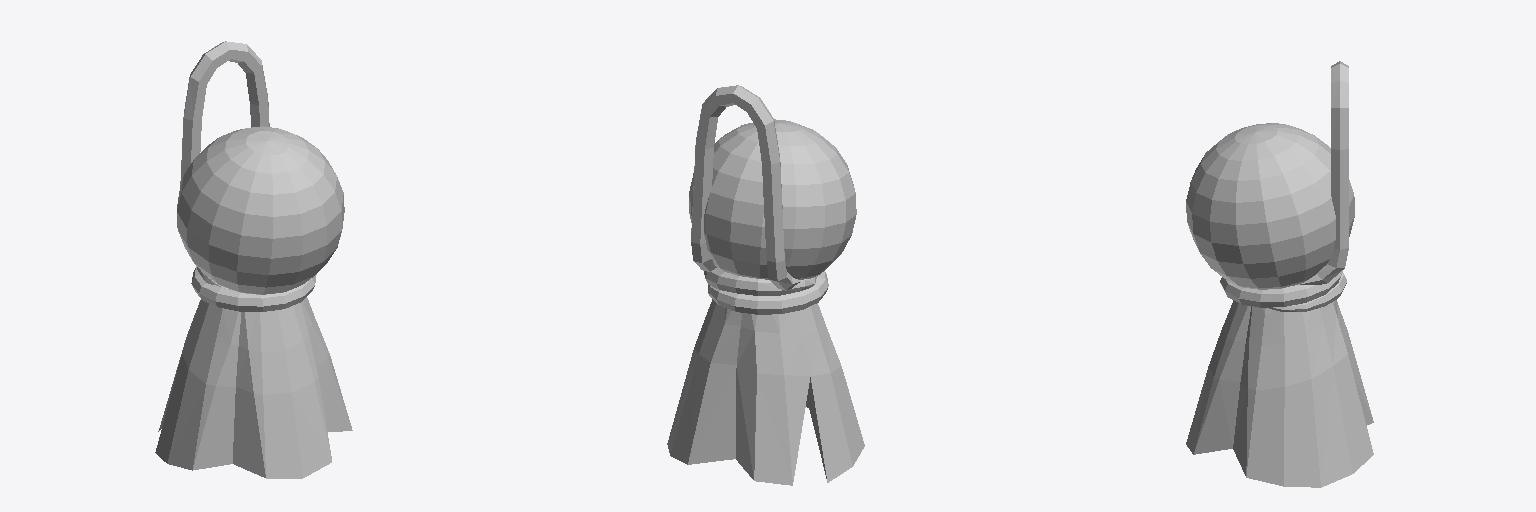
The model's file is DrownedVisageDisplayMesh.obj.
3 renders of one model, left to right at view 1: azimuth 30°, elevation 25°; view 2: azimuth 150°, elevation 25°; view 3: azimuth 270°, elevation 25°, orthographic.
Visible parts, largest first — view 1: DrownedVisageDisplayMesh_Drowned_Visage_Display; view 2: DrownedVisageDisplayMesh_Drowned_Visage_Display; view 3: DrownedVisageDisplayMesh_Drowned_Visage_Display.
Boxes of the visible parts, x1,y1,x2,y2 form: DrownedVisageDisplayMesh_Drowned_Visage_Display: [155, 41, 352, 478]; DrownedVisageDisplayMesh_Drowned_Visage_Display: [667, 85, 864, 485]; DrownedVisageDisplayMesh_Drowned_Visage_Display: [1186, 61, 1373, 487].
Size of the model in its own units: 0.943 by 2 by 0.885.